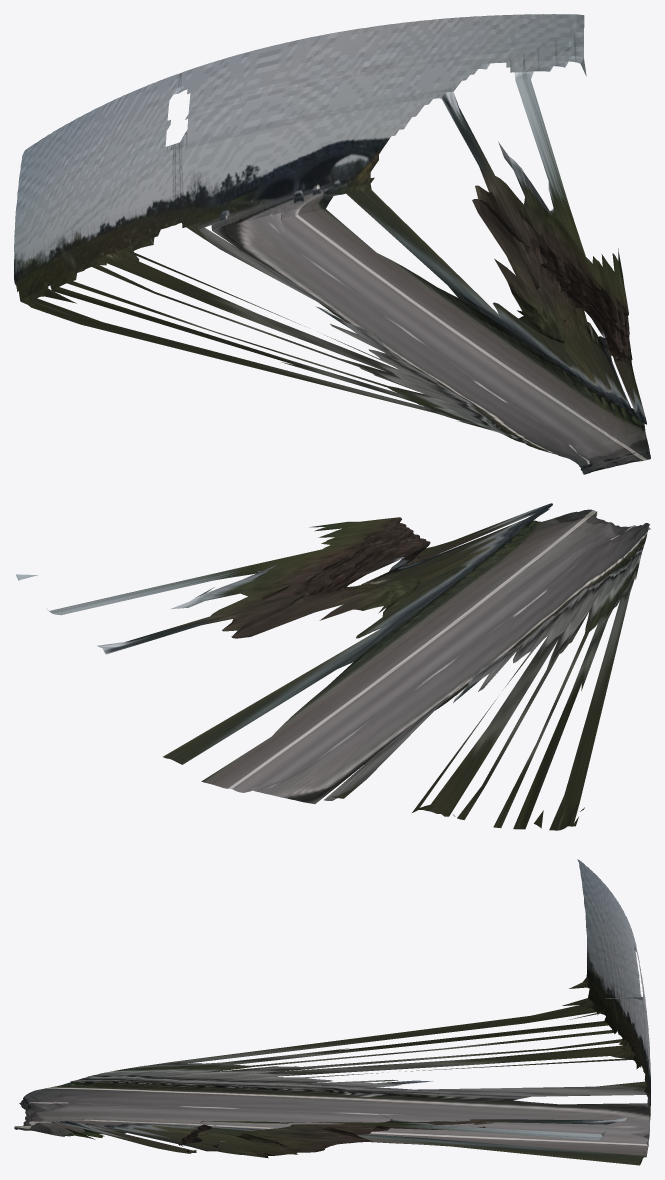
The picture shows the model from 3 angles, top to bottom: view 1: azimuth 30°, elevation 25°; view 2: azimuth 150°, elevation 25°; view 3: azimuth 270°, elevation 25°; orthographic projection. The views are drawn at different scales.
Parts seen in each view (by area): view 1: defaultobject; view 2: defaultobject; view 3: defaultobject.
Boxes of the visible parts, bbox=[...] form: defaultobject: bbox=[14, 14, 650, 474]; defaultobject: bbox=[16, 503, 650, 830]; defaultobject: bbox=[14, 859, 650, 1165].
Size of the model in its own units: 40.98 by 12.47 by 44.81.
1 material, 1 textured.
